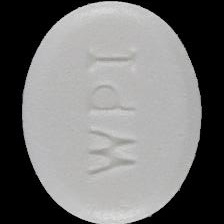0591-2465: (0, 0, 224, 224)
